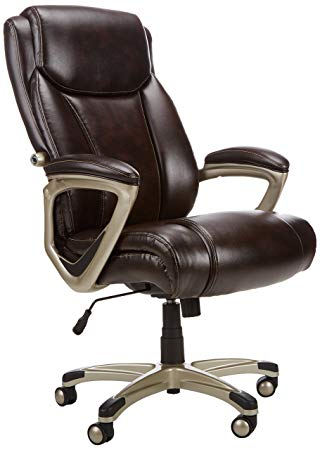chairs: (3, 5, 316, 445)
